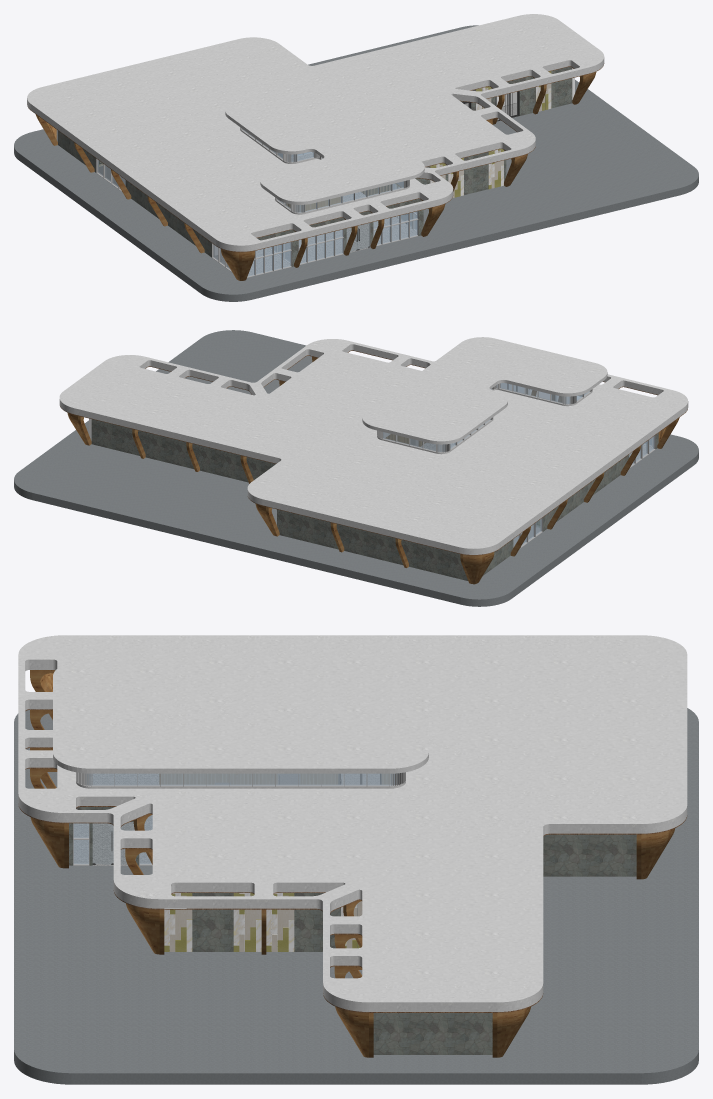
Rendered from event place.glb.
The picture shows the model from 3 angles, top to bottom: view 1: azimuth 30°, elevation 25°; view 2: azimuth 150°, elevation 25°; view 3: azimuth 270°, elevation 25°; orthographic projection. The views are drawn at different scales.
Visible parts, largest first — view 1: EVENT PLACE; view 2: EVENT PLACE; view 3: EVENT PLACE.
Boxes of the visible parts, <box> form: EVENT PLACE: <box>14,14,698,301</box>; EVENT PLACE: <box>14,330,698,606</box>; EVENT PLACE: <box>14,635,698,1084</box>.
Bounding box in the file's own units: 38.77 × 5.44 × 29.83.
Materials: 36 (23 with a texture image).
